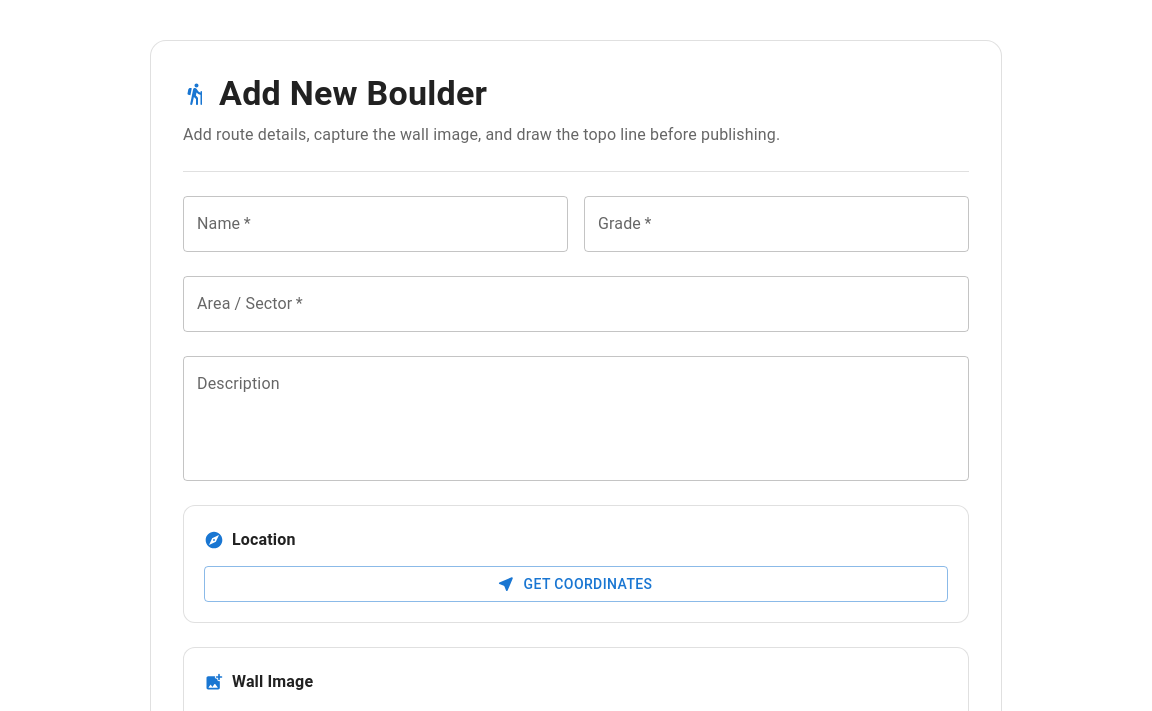
AddBoulder test › should fetch and display coordinates when the button is clicked
Step 1. Click the button "Get Coordinates" → coordinates (576, 584), box left=204, top=566, right=948, bottom=602
(page scrolled)
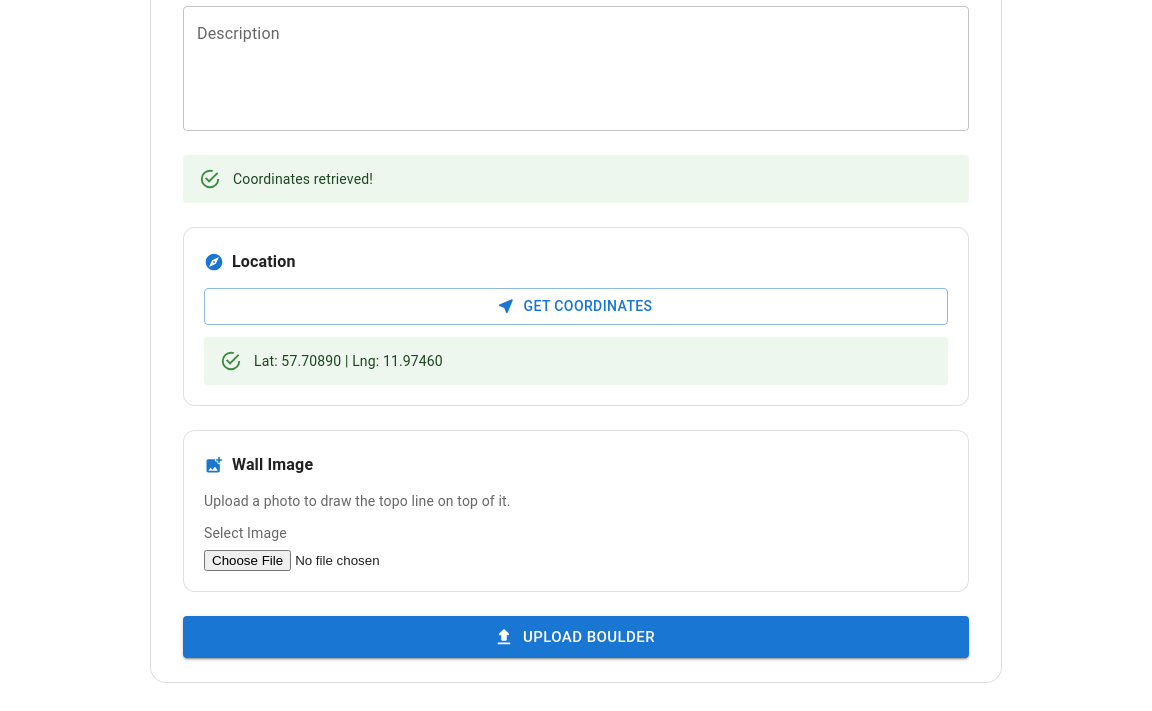
expect the text "Lat: 57.70890 | Lng: 11.97460" is shown: met, box left=254, top=352, right=443, bottom=368
